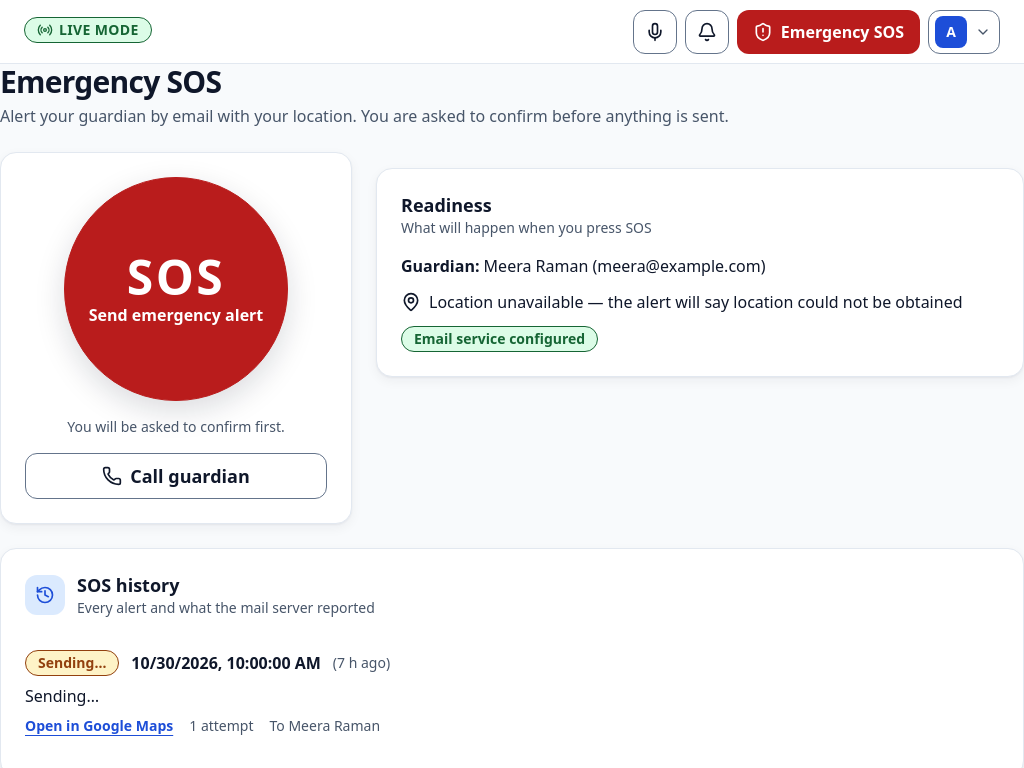
Test: SOS confirm and send › pending is shown as Sending, never as success
Click the button "SOS Send emergency alert": [176, 289] box [64,177,288,401]
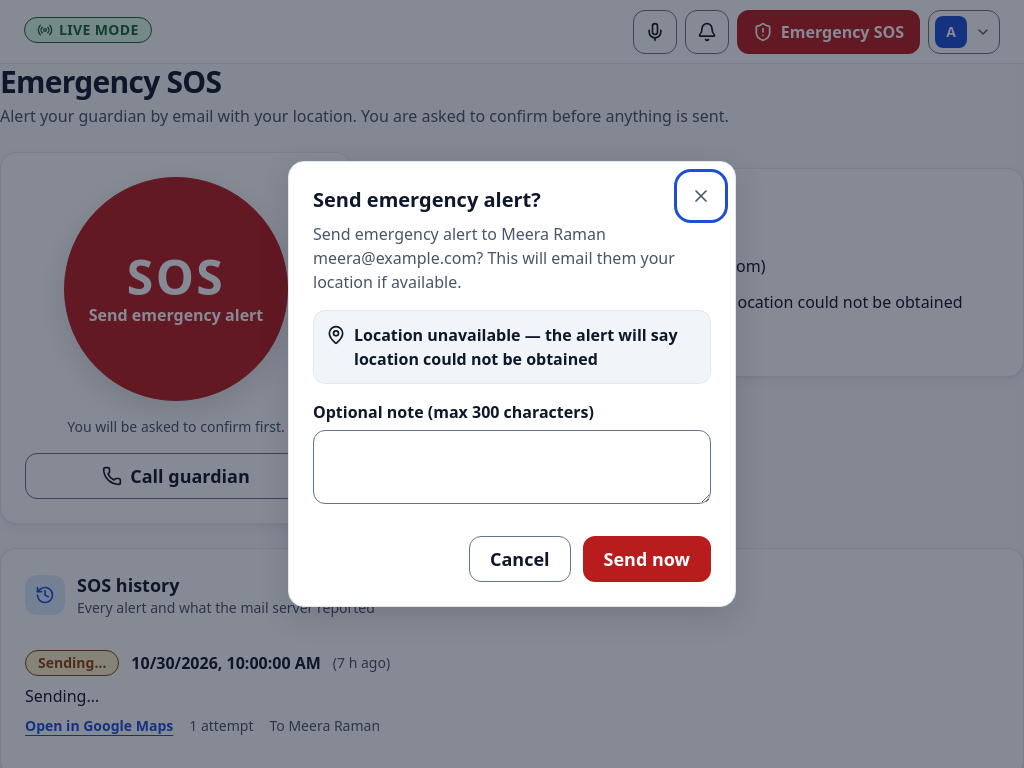
Click the button "Send now": [647, 559] box [582,536,711,582]
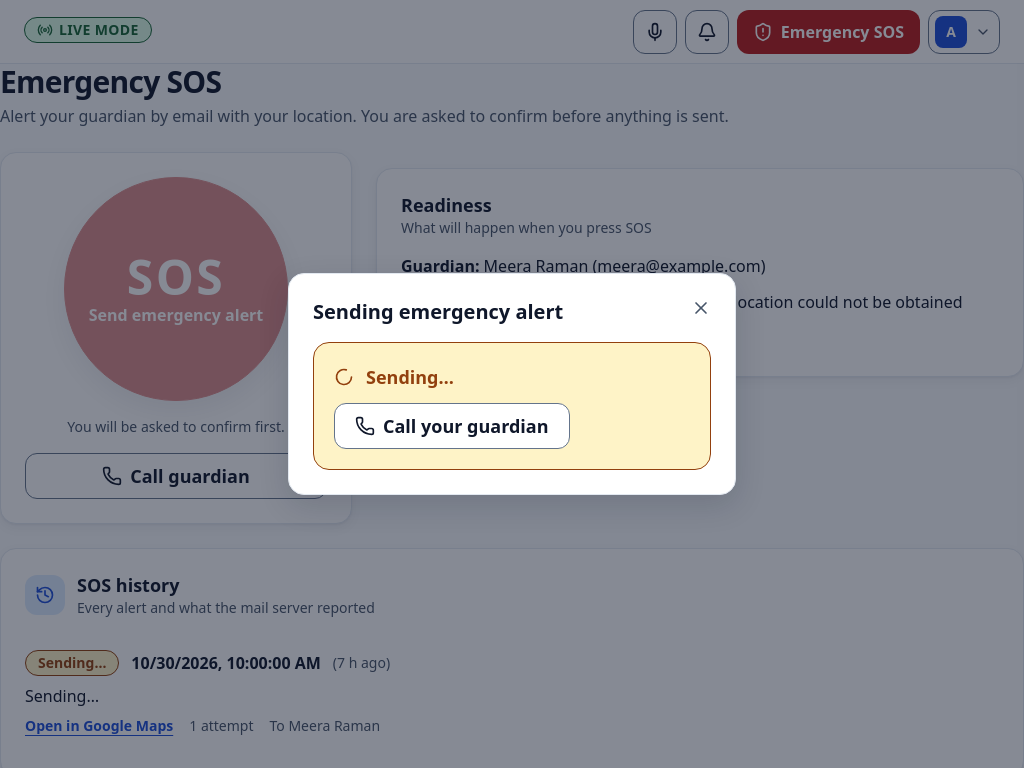
Now the text "Sending…" is shown, box [366,363,454,391]
